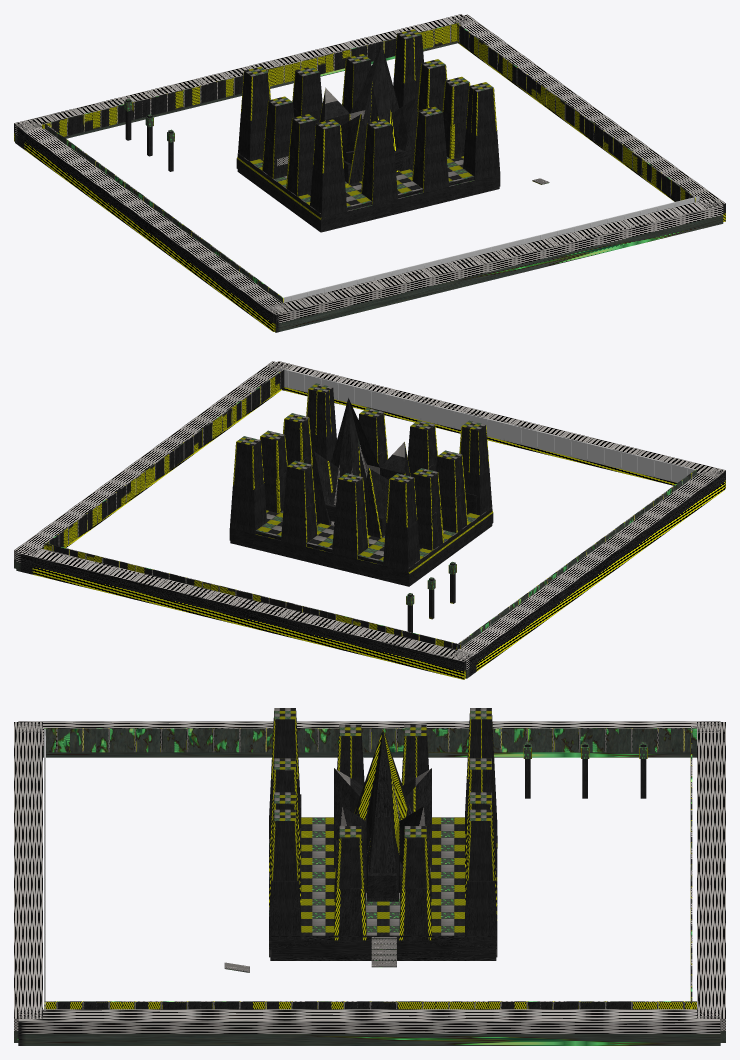
Rendered from door1.obj.
The picture shows the model from 3 angles, top to bottom: view 1: azimuth 30°, elevation 25°; view 2: azimuth 150°, elevation 25°; view 3: azimuth 270°, elevation 25°; orthographic projection. The views are drawn at different scales.
Parts seen in each view (by area): view 1: off; view 2: off; view 3: off.
Boxes of the visible parts, x1,y1,x2,y2 form: off: [14, 14, 725, 332]; off: [14, 361, 725, 679]; off: [14, 708, 725, 1045].
Size of the model in its own units: 755 by 213 by 756.
